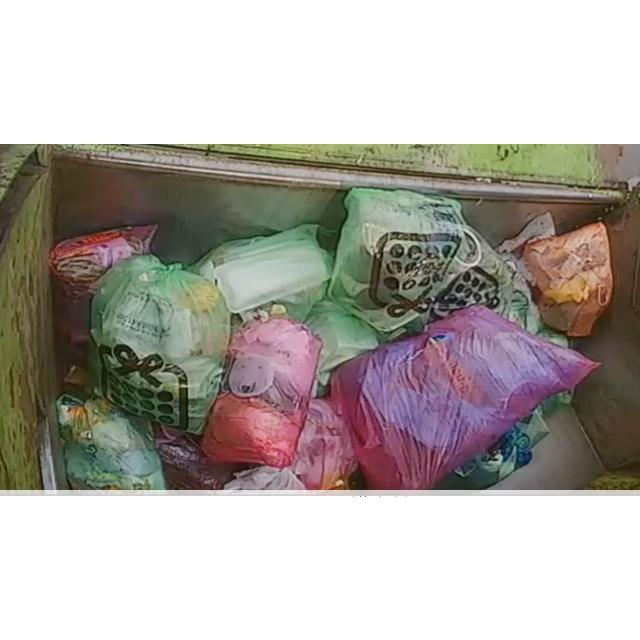general_trashbag: (91, 254, 230, 433), (329, 188, 466, 330), (192, 223, 332, 320), (56, 393, 166, 489), (430, 226, 514, 319)
other_trashbag: (330, 304, 598, 488), (201, 314, 322, 467), (522, 220, 614, 336), (290, 398, 358, 489)
